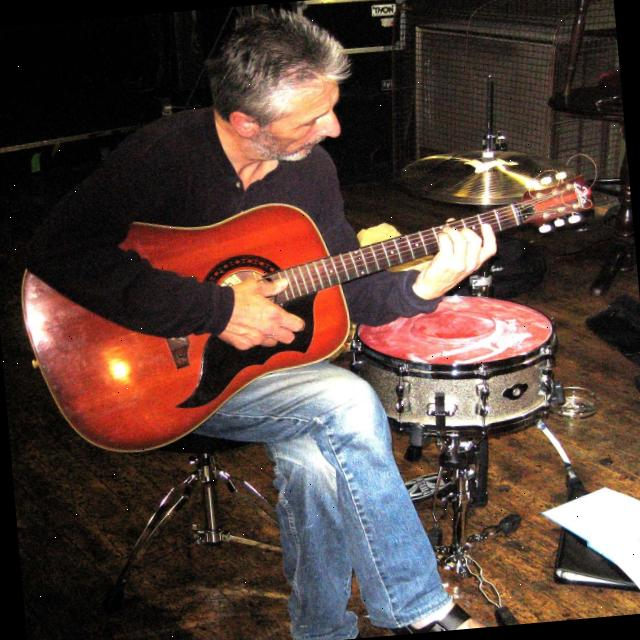guitar: (12, 168, 618, 466)
